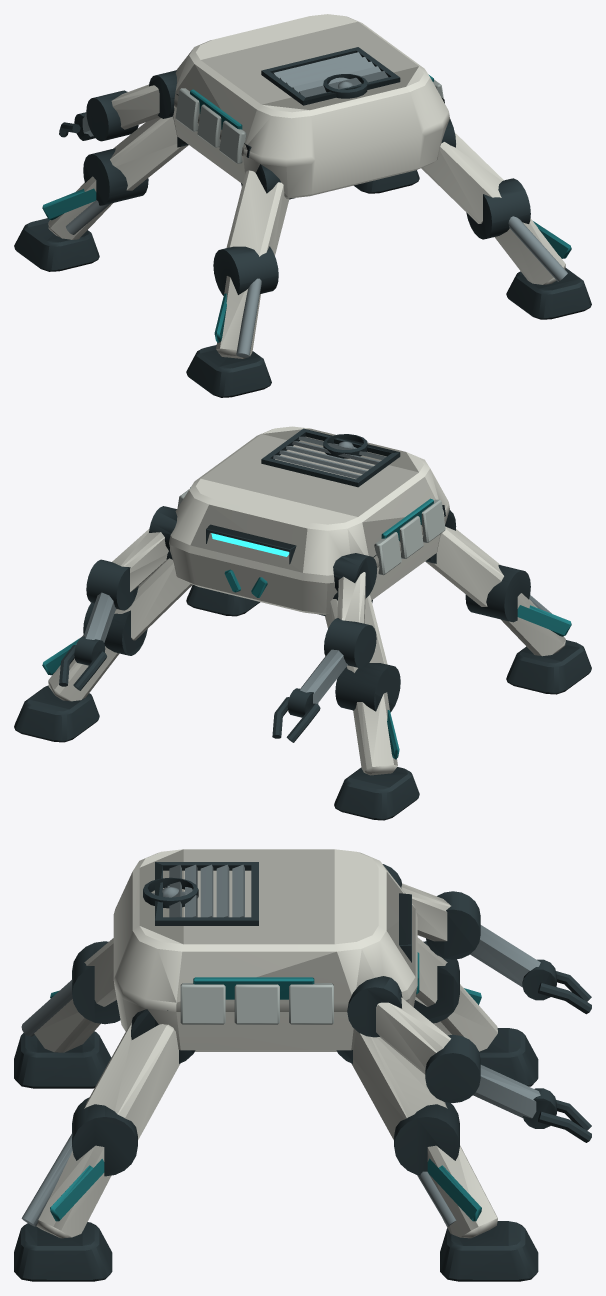
The model's file is MenderRobot.glb.
3 renders of one model, top to bottom at view 1: azimuth 30°, elevation 25°; view 2: azimuth 150°, elevation 25°; view 3: azimuth 270°, elevation 25°, orthographic. The views are drawn at different scales.
Parts seen in each view (by area): view 1: export_MenderRobot_Body, export_MenderRobot_KneeJoint.002, export_MenderRobot_KneeJoint, export_MenderRobot_ShoulderJoint, export_MenderRobot_KneeJoint.001, export_MenderRobot_HipJoint, export_MenderRobot_HipJoint.002, export_MenderRobot_HipJoint.001, export_MenderRobot_Foot, export_MenderRobot_Foot.001, export_MenderRobot_Foot.002, export_MenderRobot_Foot.003; view 2: export_MenderRobot_Body, export_MenderRobot_ShoulderJoint, export_MenderRobot_ShoulderJoint.001, export_MenderRobot_KneeJoint.001, export_MenderRobot_KneeJoint, export_MenderRobot_HipJoint, export_MenderRobot_Foot.001, export_MenderRobot_Foot.003, export_MenderRobot_Foot, export_MenderRobot_KneeJoint.003, export_MenderRobot_HipJoint.003, export_MenderRobot_Foot.002 (+1 smaller); view 3: export_MenderRobot_Body, export_MenderRobot_ShoulderJoint.001, export_MenderRobot_KneeJoint.002, export_MenderRobot_ShoulderJoint, export_MenderRobot_KneeJoint.003, export_MenderRobot_HipJoint.002, export_MenderRobot_KneeJoint, export_MenderRobot_Foot.003, export_MenderRobot_HipJoint.003, export_MenderRobot_Foot.002, export_MenderRobot_Foot, export_MenderRobot_KneeJoint.001 (+3 smaller).
Boxes of the visible parts, box(x1,y1,x2,y2) form: export_MenderRobot_Body: box(173, 14, 449, 198); export_MenderRobot_KneeJoint.002: box(466, 178, 571, 284); export_MenderRobot_KneeJoint: box(213, 246, 278, 358); export_MenderRobot_ShoulderJoint: box(59, 70, 176, 141); export_MenderRobot_KneeJoint.001: box(42, 148, 148, 239); export_MenderRobot_HipJoint: box(226, 164, 294, 256); export_MenderRobot_HipJoint.002: box(421, 119, 503, 223); export_MenderRobot_HipJoint.001: box(110, 116, 188, 190); export_MenderRobot_Foot: box(186, 345, 271, 397); export_MenderRobot_Foot.001: box(14, 218, 99, 271); export_MenderRobot_Foot.002: box(506, 268, 591, 319); export_MenderRobot_Foot.003: box(354, 170, 419, 193); export_MenderRobot_Body: box(169, 426, 449, 614); export_MenderRobot_ShoulderJoint: box(272, 553, 376, 742); export_MenderRobot_ShoulderJoint.001: box(59, 506, 177, 690); export_MenderRobot_KneeJoint.001: box(335, 663, 400, 775); export_MenderRobot_KneeJoint: box(465, 565, 571, 656); export_MenderRobot_HipJoint: box(425, 510, 503, 606); export_MenderRobot_Foot.001: box(334, 767, 419, 820); export_MenderRobot_Foot.003: box(14, 685, 99, 742); export_MenderRobot_Foot: box(506, 640, 591, 694); export_MenderRobot_KneeJoint.003: box(42, 603, 147, 701); export_MenderRobot_HipJoint.003: box(114, 551, 192, 640); export_MenderRobot_Foot.002: box(186, 585, 260, 616); export_MenderRobot_Body: box(113, 849, 419, 1051); export_MenderRobot_ShoulderJoint.001: box(347, 976, 591, 1142); export_MenderRobot_KneeJoint.002: box(21, 1097, 137, 1238); export_MenderRobot_ShoulderJoint: box(383, 864, 591, 1014); export_MenderRobot_KneeJoint.003: box(394, 1102, 497, 1238); export_MenderRobot_HipJoint.002: box(84, 1009, 195, 1139); export_MenderRobot_KneeJoint: box(21, 941, 120, 1052); export_MenderRobot_Foot.003: box(440, 1221, 538, 1281); export_MenderRobot_HipJoint.003: box(336, 1031, 447, 1139); export_MenderRobot_Foot.002: box(14, 1222, 112, 1281); export_MenderRobot_Foot: box(14, 1031, 111, 1088); export_MenderRobot_KneeJoint.001: box(413, 941, 497, 1051).
Size of the model in its own units: 3.13 by 1.79 by 3.34.
